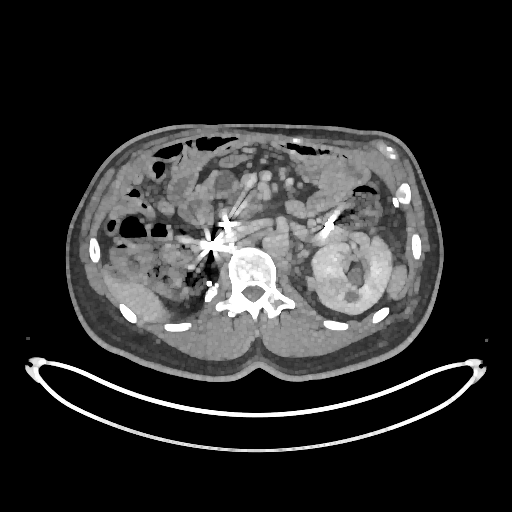Lesion: (315, 271, 344, 298)
